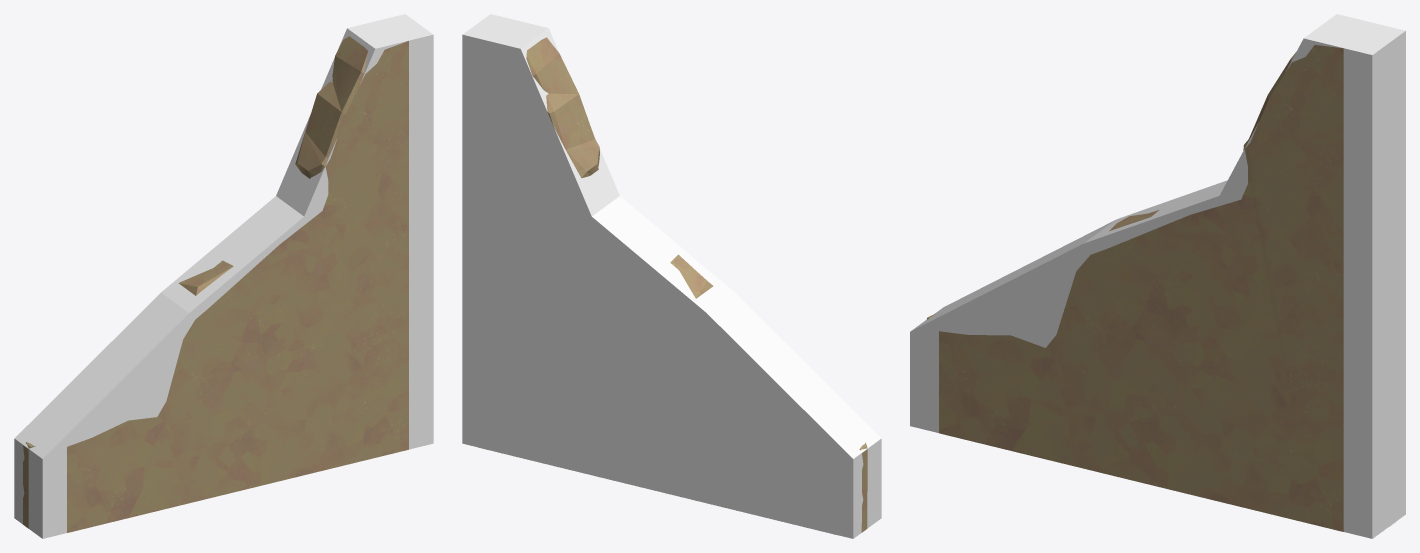
The model's file is BrokenWall_Full_B_Corner_BOTH_Mir.fbx.
3 renders of one model, left to right at view 1: azimuth 30°, elevation 25°; view 2: azimuth 150°, elevation 25°; view 3: azimuth 330°, elevation 25°, orthographic. The views are drawn at different scales.
Visible parts, largest first — view 1: BrokenWall_B_Corner_BOTH_Mir, BrokenWall_B_Corner_BOTH_Mir_COL; view 2: BrokenWall_B_Corner_BOTH_Mir_COL, BrokenWall_B_Corner_BOTH_Mir; view 3: BrokenWall_B_Corner_BOTH_Mir, BrokenWall_B_Corner_BOTH_Mir_COL.
Boxes of the visible parts, x1=… form: BrokenWall_B_Corner_BOTH_Mir: x1=23, y1=36, x2=408, y2=532; BrokenWall_B_Corner_BOTH_Mir_COL: x1=14, y1=14, x2=433, y2=538; BrokenWall_B_Corner_BOTH_Mir_COL: x1=462, y1=14, x2=881, y2=538; BrokenWall_B_Corner_BOTH_Mir: x1=486, y1=37, x2=867, y2=534; BrokenWall_B_Corner_BOTH_Mir: x1=927, y1=45, x2=1395, y2=531; BrokenWall_B_Corner_BOTH_Mir_COL: x1=910, y1=14, x2=1405, y2=538.
Bounding box in the file's own units: 400 × 400 × 50.02.
